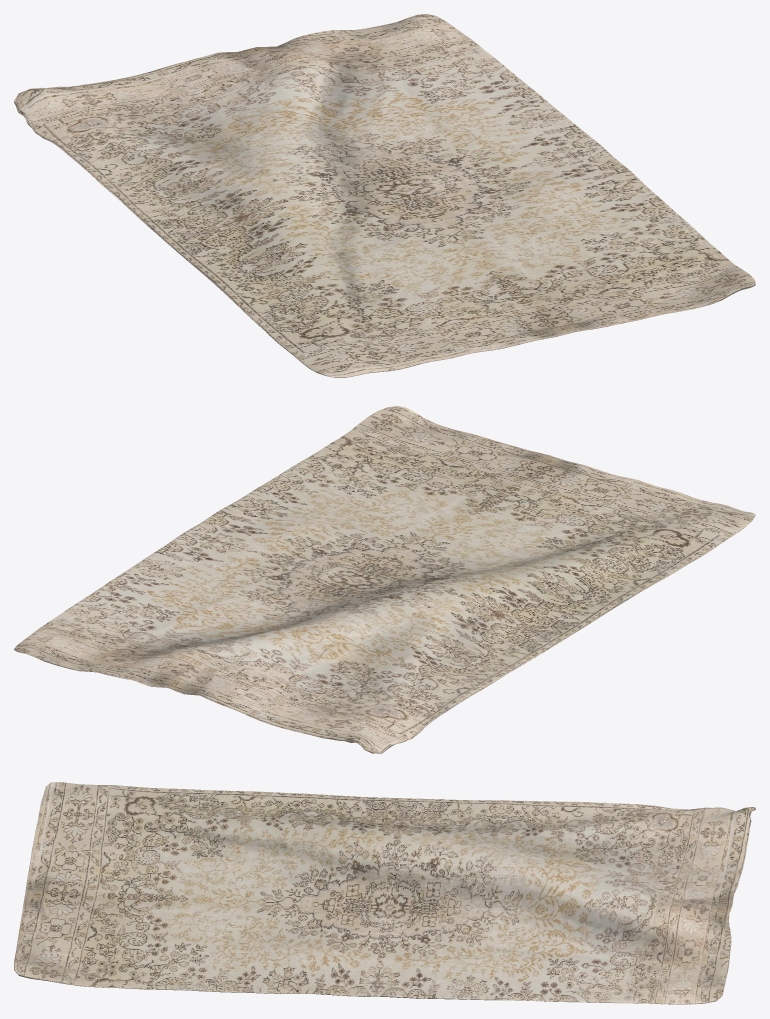
The model's file is alfombra.fbx.
3 renders of one model, top to bottom at view 1: azimuth 30°, elevation 25°; view 2: azimuth 150°, elevation 25°; view 3: azimuth 270°, elevation 25°, orthographic. The views are drawn at different scales.
Visible parts, largest first — view 1: Cube.001; view 2: Cube.001; view 3: Cube.001.
Boxes of the visible parts, x1,y1,x2,y2 form: Cube.001: (14,14,755,377); Cube.001: (14,406,755,753); Cube.001: (14,782,755,1004).
Bounding box in the file's own units: 217 × 10.79 × 313.
Materials: 1 (1 with a texture image).
